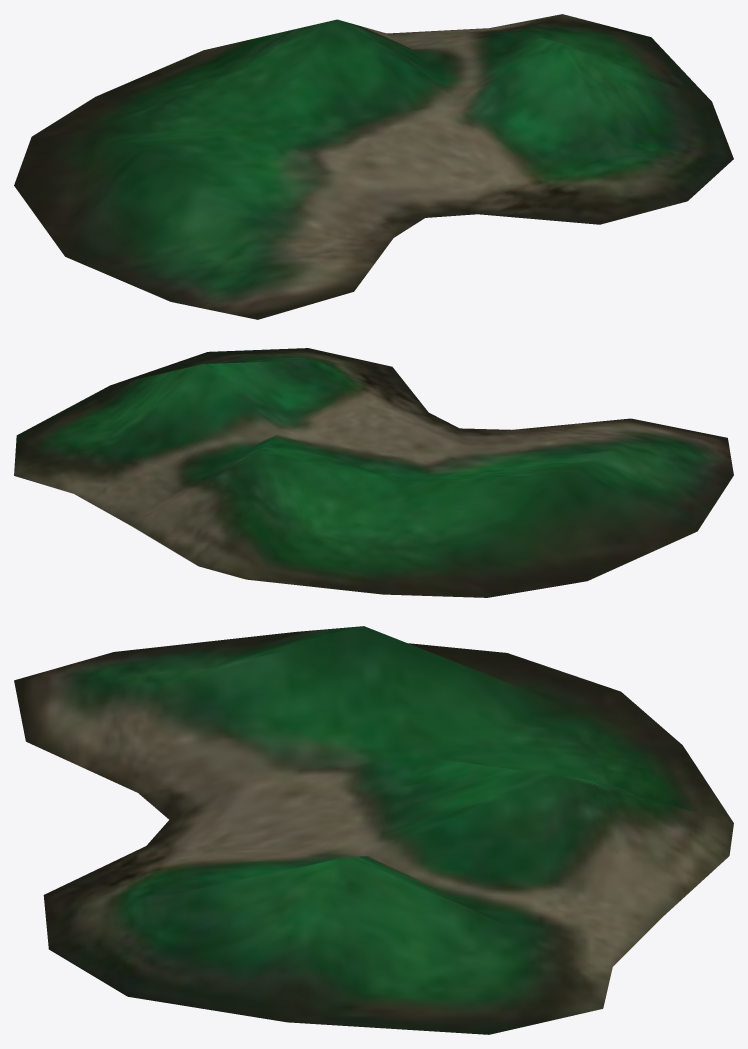
The model's file is pir_m_are_isl_driftwood_low.fbx.
3 renders of one model, top to bottom at view 1: azimuth 30°, elevation 25°; view 2: azimuth 150°, elevation 25°; view 3: azimuth 270°, elevation 25°, orthographic. The views are drawn at different scales.
Visible parts, largest first — view 1: horizon_lod; view 2: horizon_lod; view 3: horizon_lod.
Boxes of the visible parts, x1,y1,x2,y2 form: horizon_lod: [14, 14, 733, 319]; horizon_lod: [14, 348, 733, 597]; horizon_lod: [14, 626, 733, 1034].
Size of the model in its own units: 108914 by 11242 by 82265.
1 material, 1 textured.
